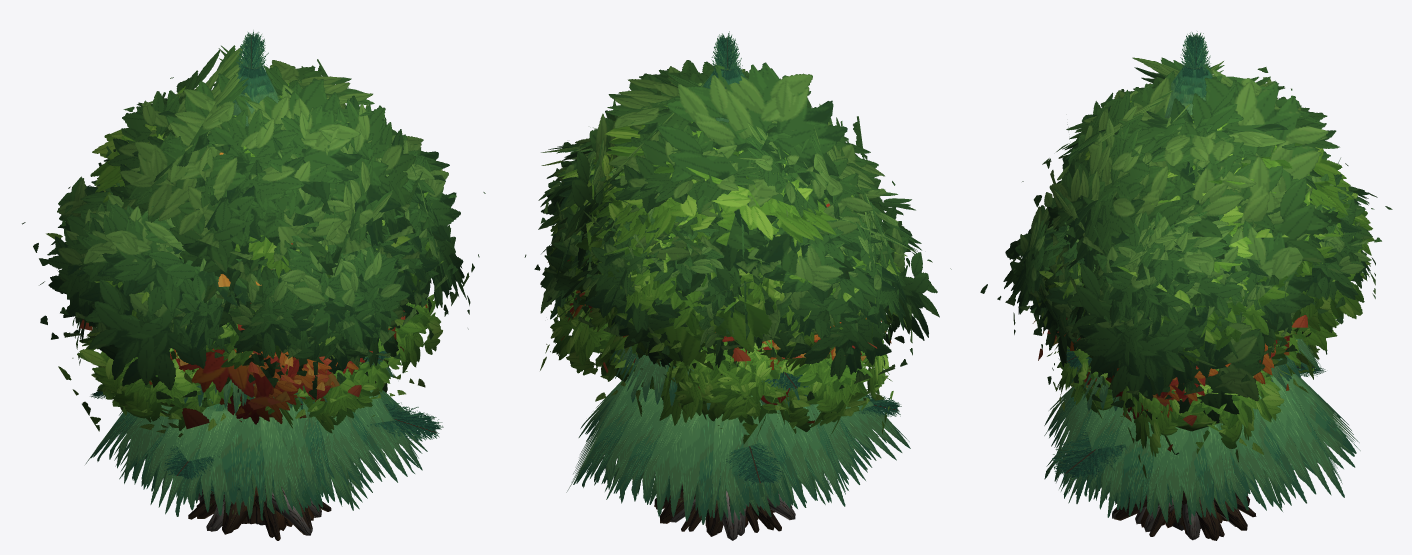
Rendered from kit_trees.glb.
3 views of the same model, side by side, from view 1: azimuth 30°, elevation 25°; view 2: azimuth 150°, elevation 25°; view 3: azimuth 270°, elevation 25° (orthographic).
Parts seen in each view (by area): view 1: tree_oak_dark_mesh, tree_oak_dark_lod1_mesh, tree_pine_a_mesh, tree_pine_a_lod1_mesh, tree_green_c_mesh, tree_green_c_lod1_mesh, tree_autumn_a_lod1_mesh, tree_pine_b_mesh, tree_autumn_a_mesh, tree_green_a_lod1_mesh, tree_green_a_mesh, tree_dead_a_mesh (+2 smaller); view 2: tree_oak_dark_lod1_mesh, tree_oak_dark_mesh, tree_pine_a_mesh, tree_green_c_mesh, tree_green_a_mesh, tree_pine_a_lod1_mesh, tree_green_a_lod1_mesh, tree_green_c_lod1_mesh, tree_pine_b_mesh, tree_autumn_a_mesh, tree_pine_b_lod1_mesh; view 3: tree_oak_dark_mesh, tree_oak_dark_lod1_mesh, tree_pine_a_mesh, tree_pine_a_lod1_mesh, tree_green_a_mesh, tree_green_c_mesh, tree_green_a_lod1_mesh, tree_green_c_lod1_mesh, tree_pine_b_mesh, tree_autumn_a_mesh, tree_autumn_a_lod1_mesh, tree_dead_a_mesh.
Part boxes in pixels (<box>): tree_oak_dark_mesh: <box>39,59,479,534</box>; tree_oak_dark_lod1_mesh: <box>22,45,485,528</box>; tree_pine_a_mesh: <box>90,30,443,537</box>; tree_pine_a_lod1_mesh: <box>85,65,422,530</box>; tree_green_c_mesh: <box>91,294,442,529</box>; tree_green_c_lod1_mesh: <box>58,302,423,530</box>; tree_autumn_a_lod1_mesh: <box>178,310,405,428</box>; tree_pine_b_mesh: <box>124,397,385,540</box>; tree_autumn_a_mesh: <box>79,269,427,511</box>; tree_green_a_lod1_mesh: <box>46,86,443,530</box>; tree_green_a_mesh: <box>86,83,420,526</box>; tree_dead_a_mesh: <box>198,486,321,535</box>; tree_oak_dark_lod1_mesh: <box>524,62,939,530</box>; tree_oak_dark_mesh: <box>534,60,951,536</box>; tree_pine_a_mesh: <box>578,31,910,533</box>; tree_green_c_mesh: <box>546,290,892,526</box>; tree_green_a_mesh: <box>549,105,907,512</box>; tree_pine_a_lod1_mesh: <box>566,65,886,532</box>; tree_green_a_lod1_mesh: <box>541,121,888,381</box>; tree_green_c_lod1_mesh: <box>540,294,893,444</box>; tree_pine_b_mesh: <box>594,404,849,531</box>; tree_autumn_a_mesh: <box>547,260,891,423</box>; tree_pine_b_lod1_mesh: <box>604,466,830,530</box>; tree_oak_dark_mesh: <box>1010,61,1392,540</box>; tree_oak_dark_lod1_mesh: <box>980,57,1372,530</box>; tree_pine_a_mesh: <box>1044,31,1360,538</box>; tree_pine_a_lod1_mesh: <box>1044,62,1344,517</box>; tree_green_a_mesh: <box>1036,123,1374,528</box>; tree_green_c_mesh: <box>1047,328,1319,535</box>; tree_green_a_lod1_mesh: <box>1040,116,1365,528</box>; tree_green_c_lod1_mesh: <box>1059,313,1339,454</box>; tree_pine_b_mesh: <box>1044,438,1291,536</box>; tree_autumn_a_mesh: <box>1032,315,1308,521</box>; tree_autumn_a_lod1_mesh: <box>1038,318,1275,528</box>; tree_dead_a_mesh: <box>1112,492,1248,540</box>.
Bounding box in the file's own units: 4.85 × 5.49 × 4.22.
8 materials, 7 textured.
